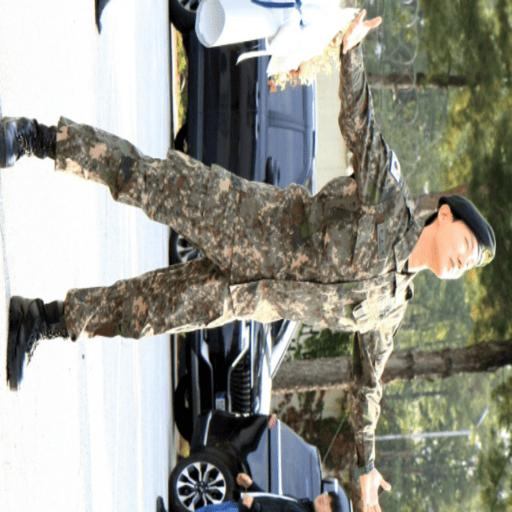korea army: (1, 5, 496, 501)
